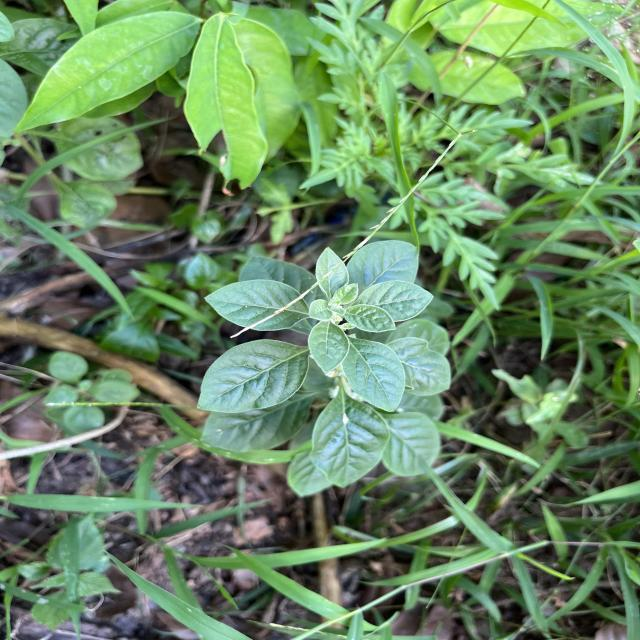Aerva lanata: (194, 336, 310, 416), (200, 276, 311, 332), (340, 334, 409, 414), (349, 278, 436, 324), (306, 318, 351, 375), (314, 244, 352, 301)
